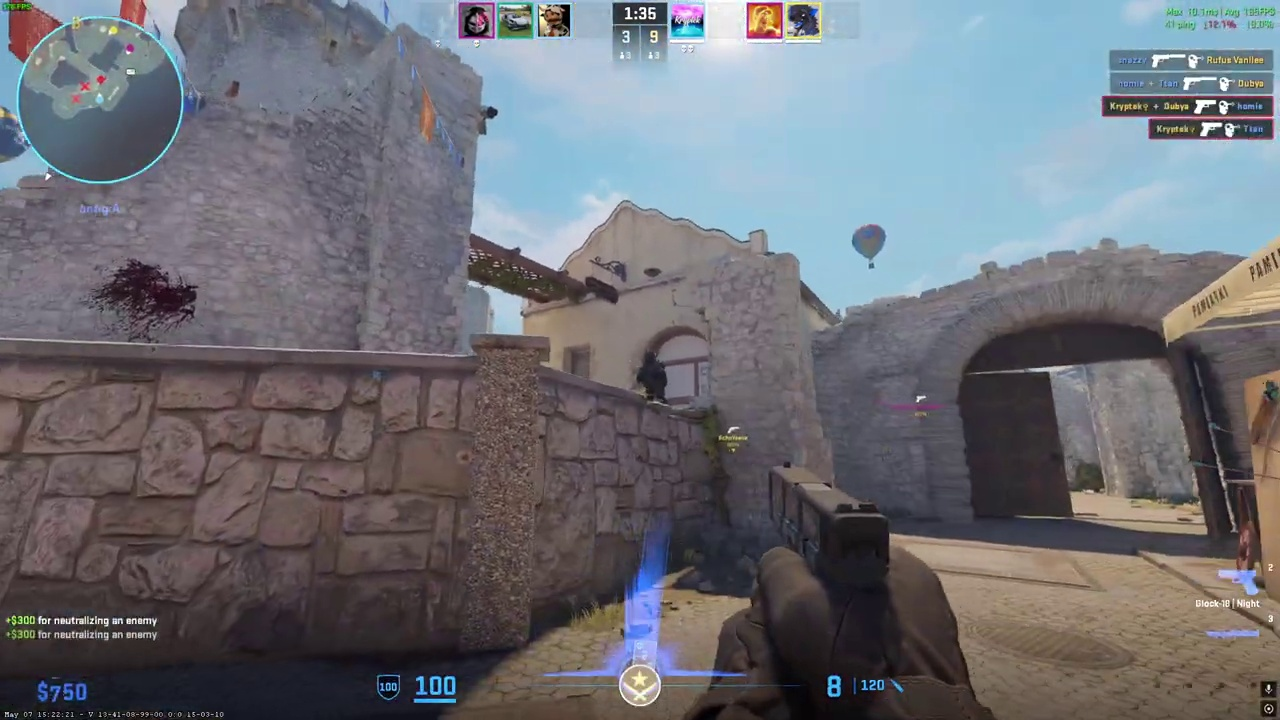CT: (636, 350, 668, 404)
